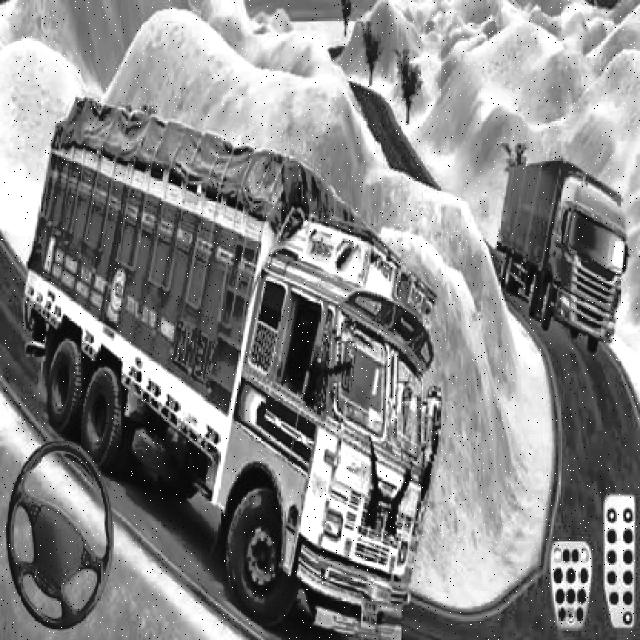HCV: (52, 86, 420, 608)
